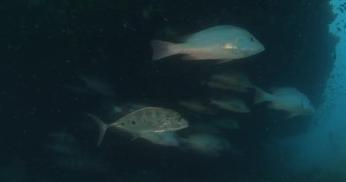Carangidae -Jacks-: (82, 99, 193, 144)
Lutjanidae -Snappers-: (143, 20, 269, 69), (250, 80, 317, 122)
